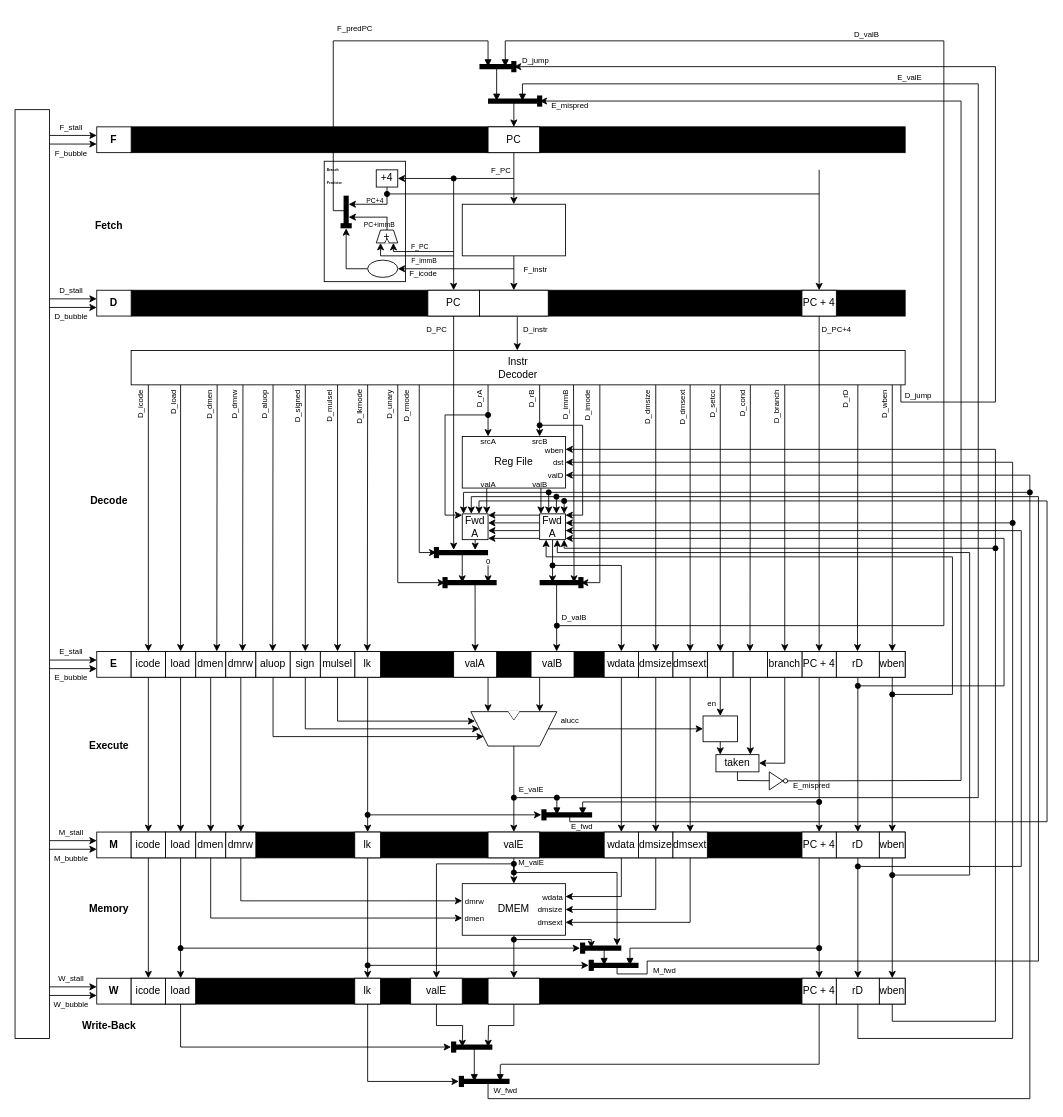
Some shapes in this 1063 by 1117 pixel diagram are drawn without their labels. Each missing label, with the centre of its shape:
?BR: point 382,268
ALU: point 513,728
cond: point 750,664
IMEM: point 513,229
IR: point 513,302
NZCV reg: point 719,728
Pipeline Controller: point 31,573
setcc: point 719,664
valM: point 513,990
